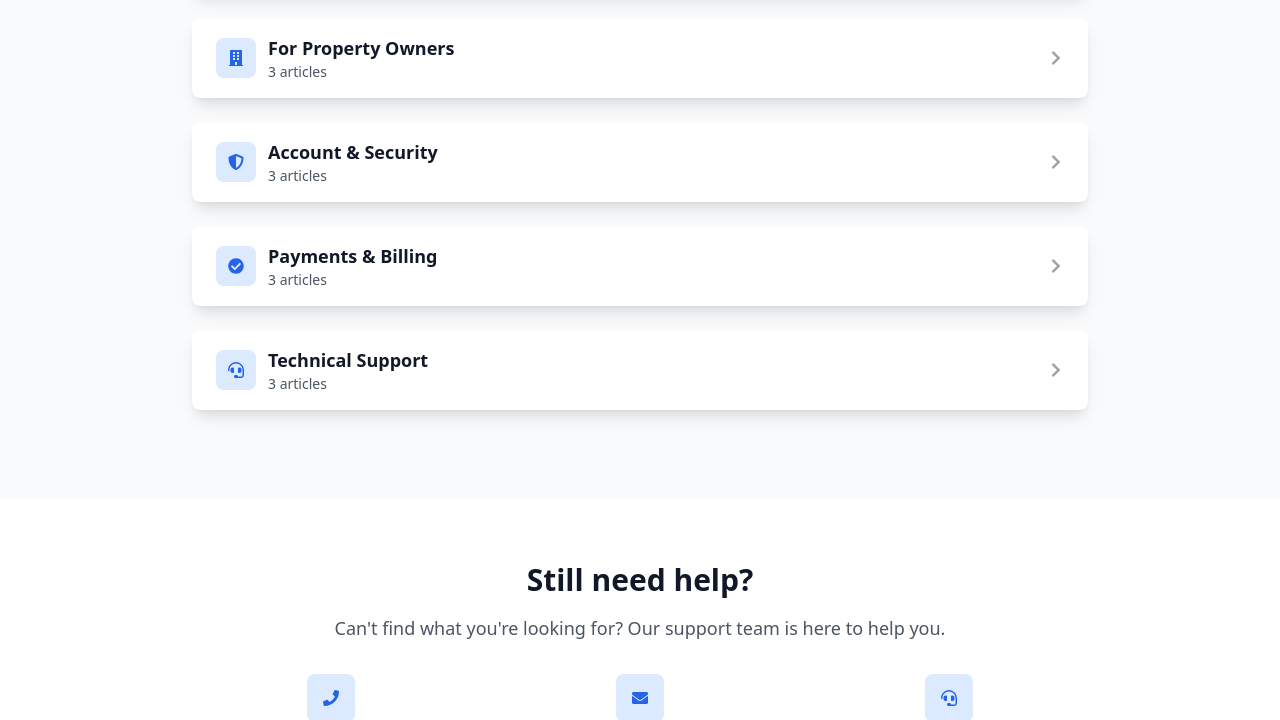
HelpPage › displays technical support questions
(page scrolled)
Click the heading "Technical Support". click: click(348, 360)
box: [268, 346, 428, 374]
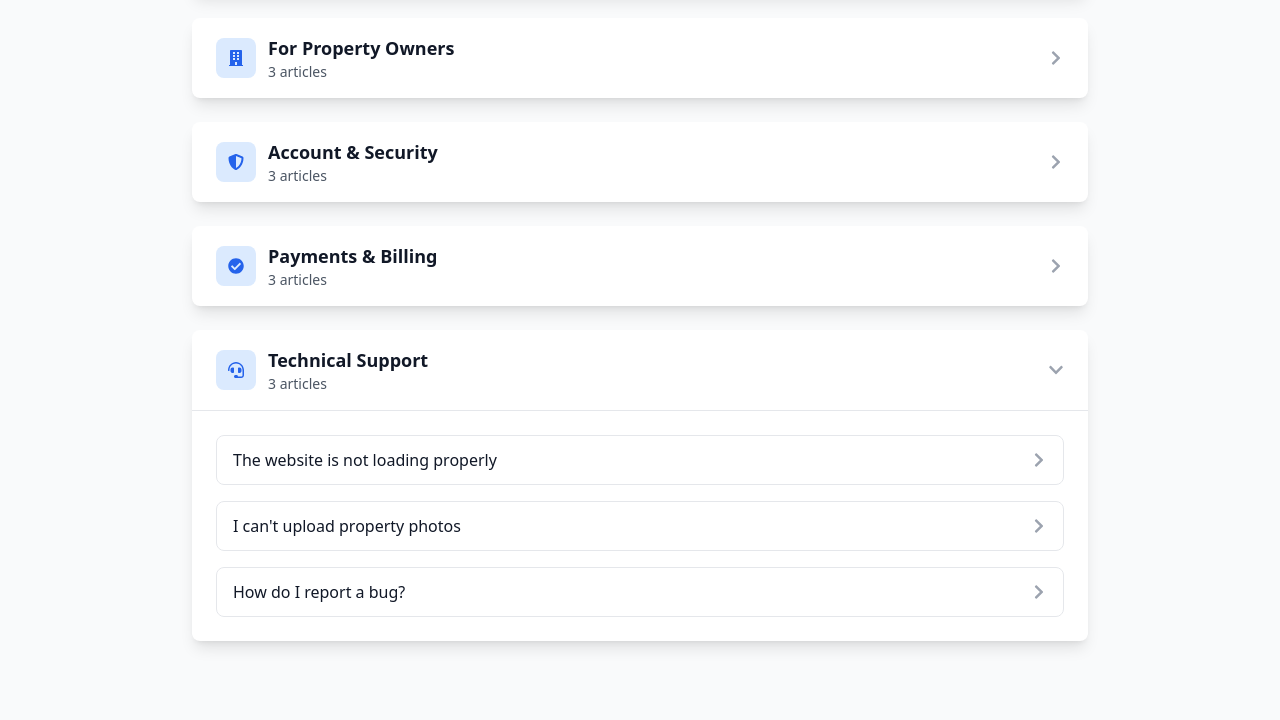
Check: the text "The website is not loading properly" is shown, box [233, 448, 497, 472]
Check: the text "I can't upload property photos" is shown, box [233, 514, 461, 538]
Check: the text "How do I report a bug?" is shown, box [233, 580, 405, 604]
